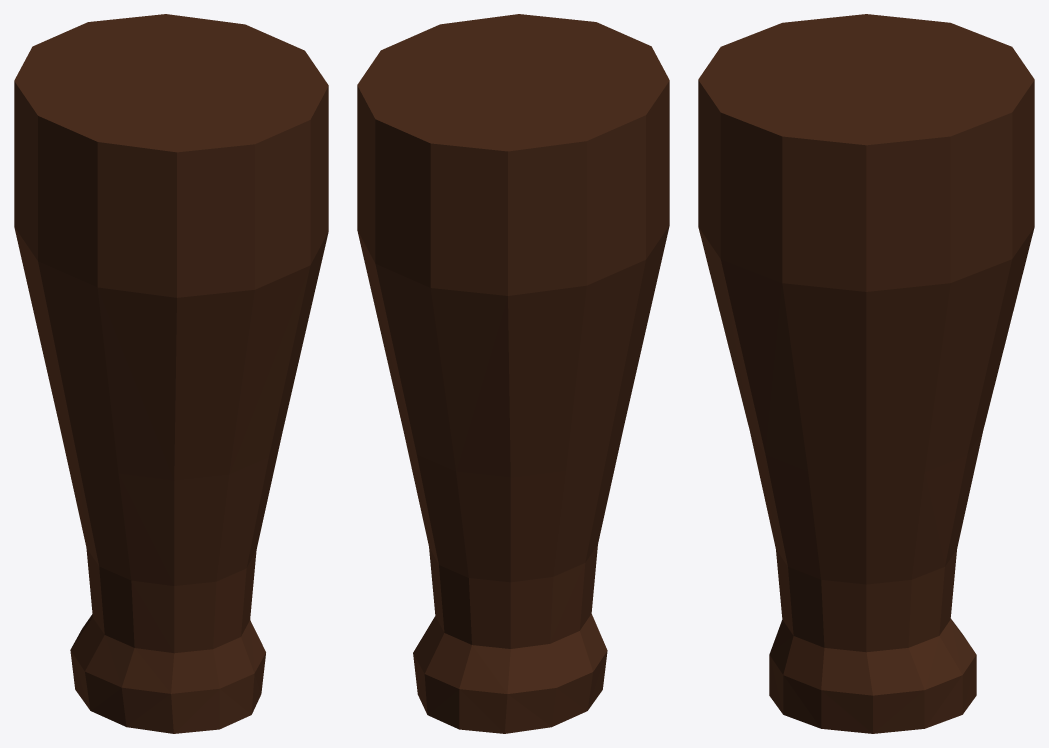
The model's file is Toro_Pata_DelIzq.obj.
3 renders of one model, left to right at view 1: azimuth 30°, elevation 25°; view 2: azimuth 150°, elevation 25°; view 3: azimuth 270°, elevation 25°, orthographic.
Parts seen in each view (by area): view 1: Toro_PataDelIzq; view 2: Toro_PataDelIzq; view 3: Toro_PataDelIzq.
Boxes of the visible parts, x1=… form: Toro_PataDelIzq: x1=14, y1=14, x2=328, y2=733; Toro_PataDelIzq: x1=357, y1=14, x2=669, y2=733; Toro_PataDelIzq: x1=698, y1=14, x2=1034, y2=733.
Size of the model in its own units: 0.48 by 1.05 by 0.52.
